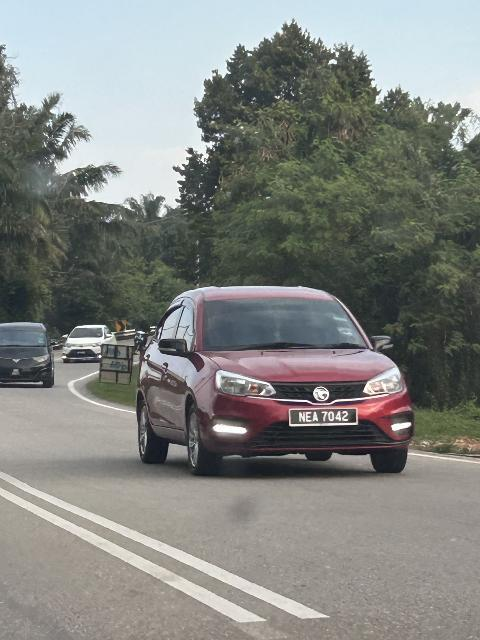License_Plate: (292, 408, 361, 427)
NEA7042: (292, 408, 361, 427)
car: (133, 284, 413, 480)
